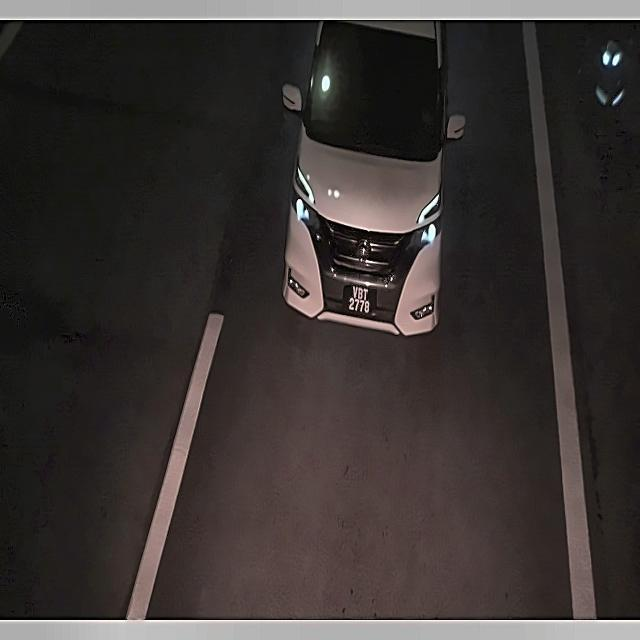car: (338, 277, 380, 320)
